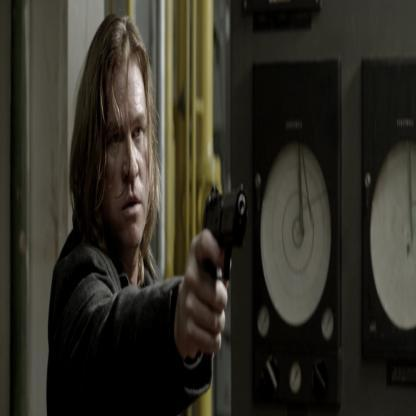gun: (196, 169, 255, 273)
